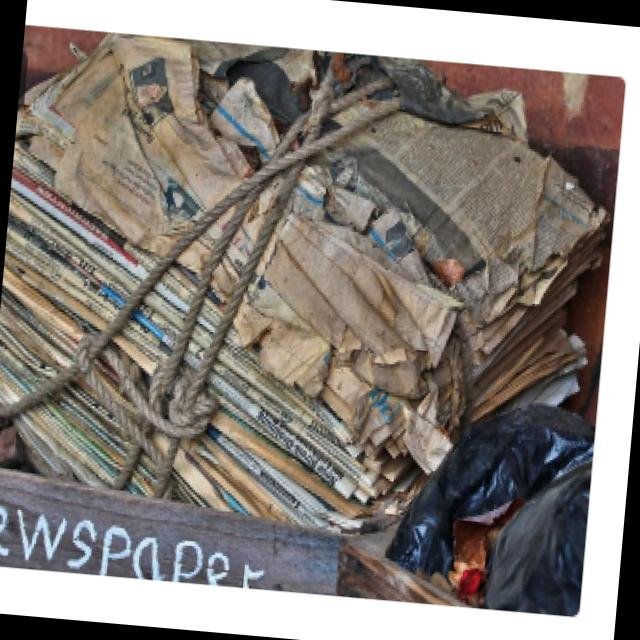KantongPlastik: (388, 398, 594, 614)
Koran: (0, 25, 622, 554)
